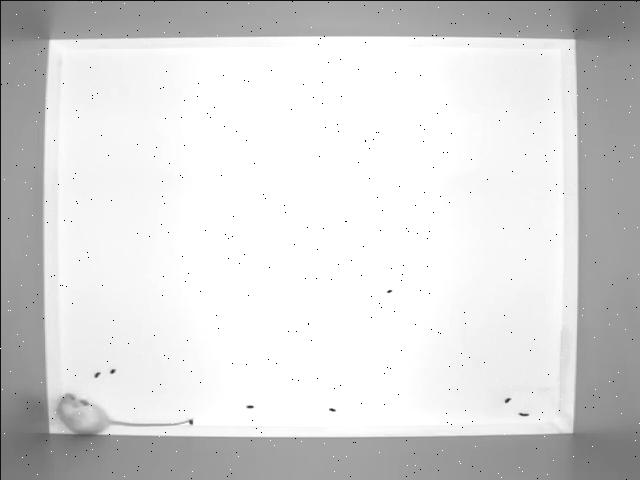Tikus: (54, 390, 194, 434)
